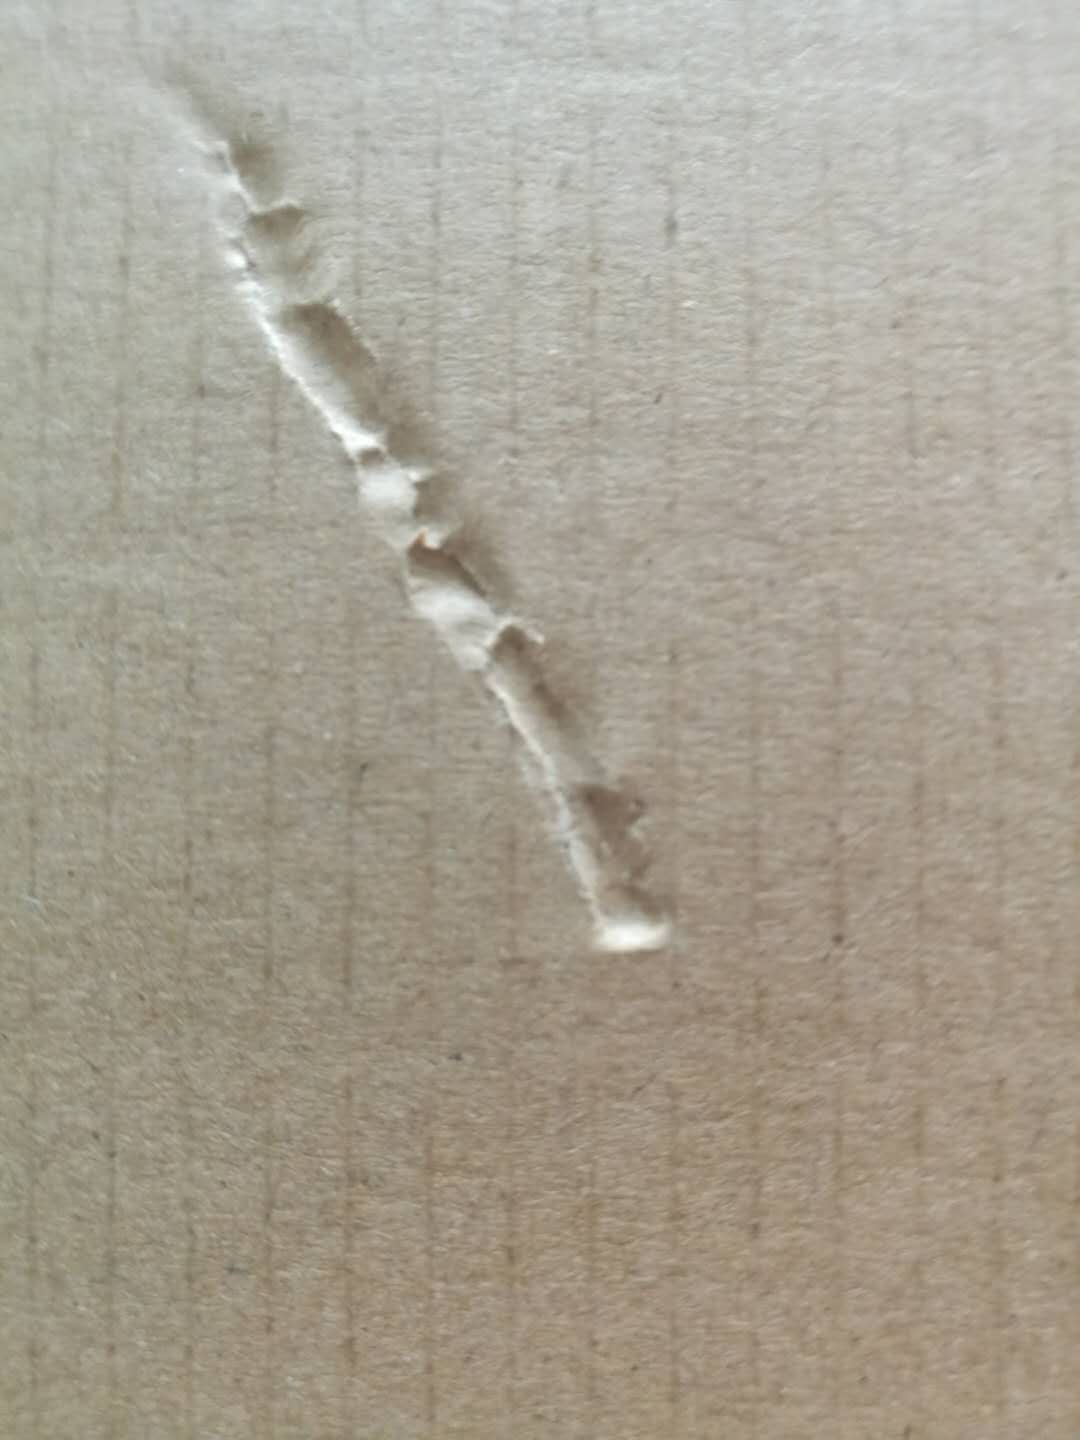defect: (123, 33, 742, 1008)
